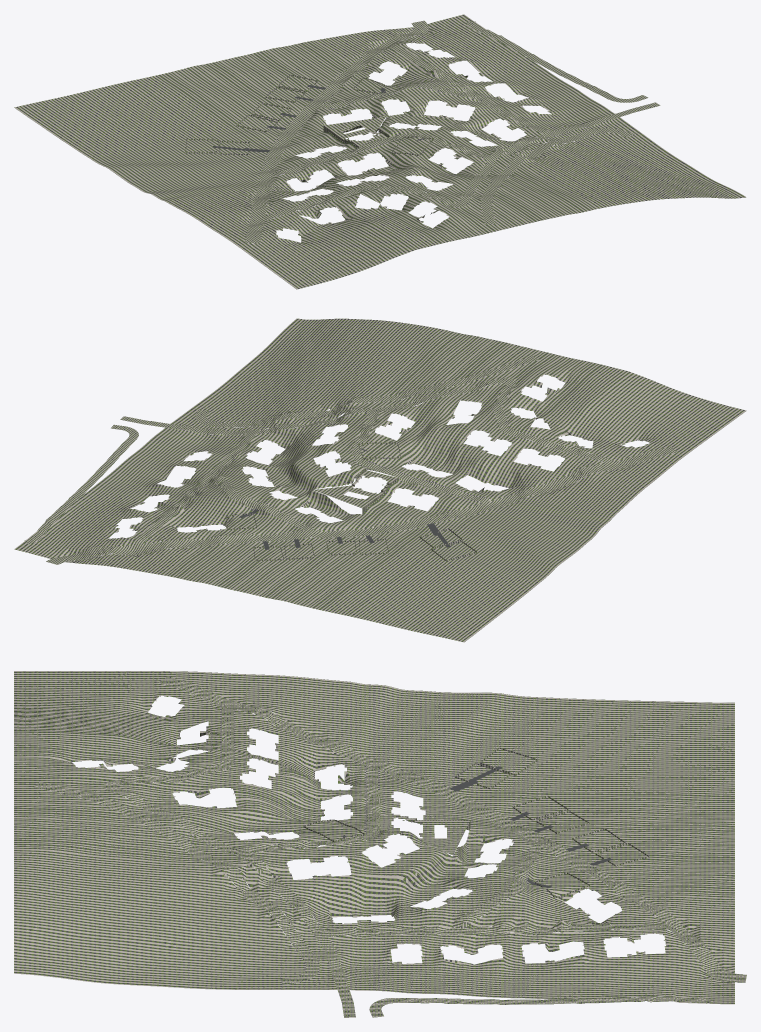
The model's file is context-ground.glb.
3 renders of one model, top to bottom at view 1: azimuth 30°, elevation 25°; view 2: azimuth 150°, elevation 25°; view 3: azimuth 270°, elevation 25°, orthographic. The views are drawn at different scales.
Bounding box in the file's own units: 312 × 32.82 × 315.
1 material, 1 textured.
